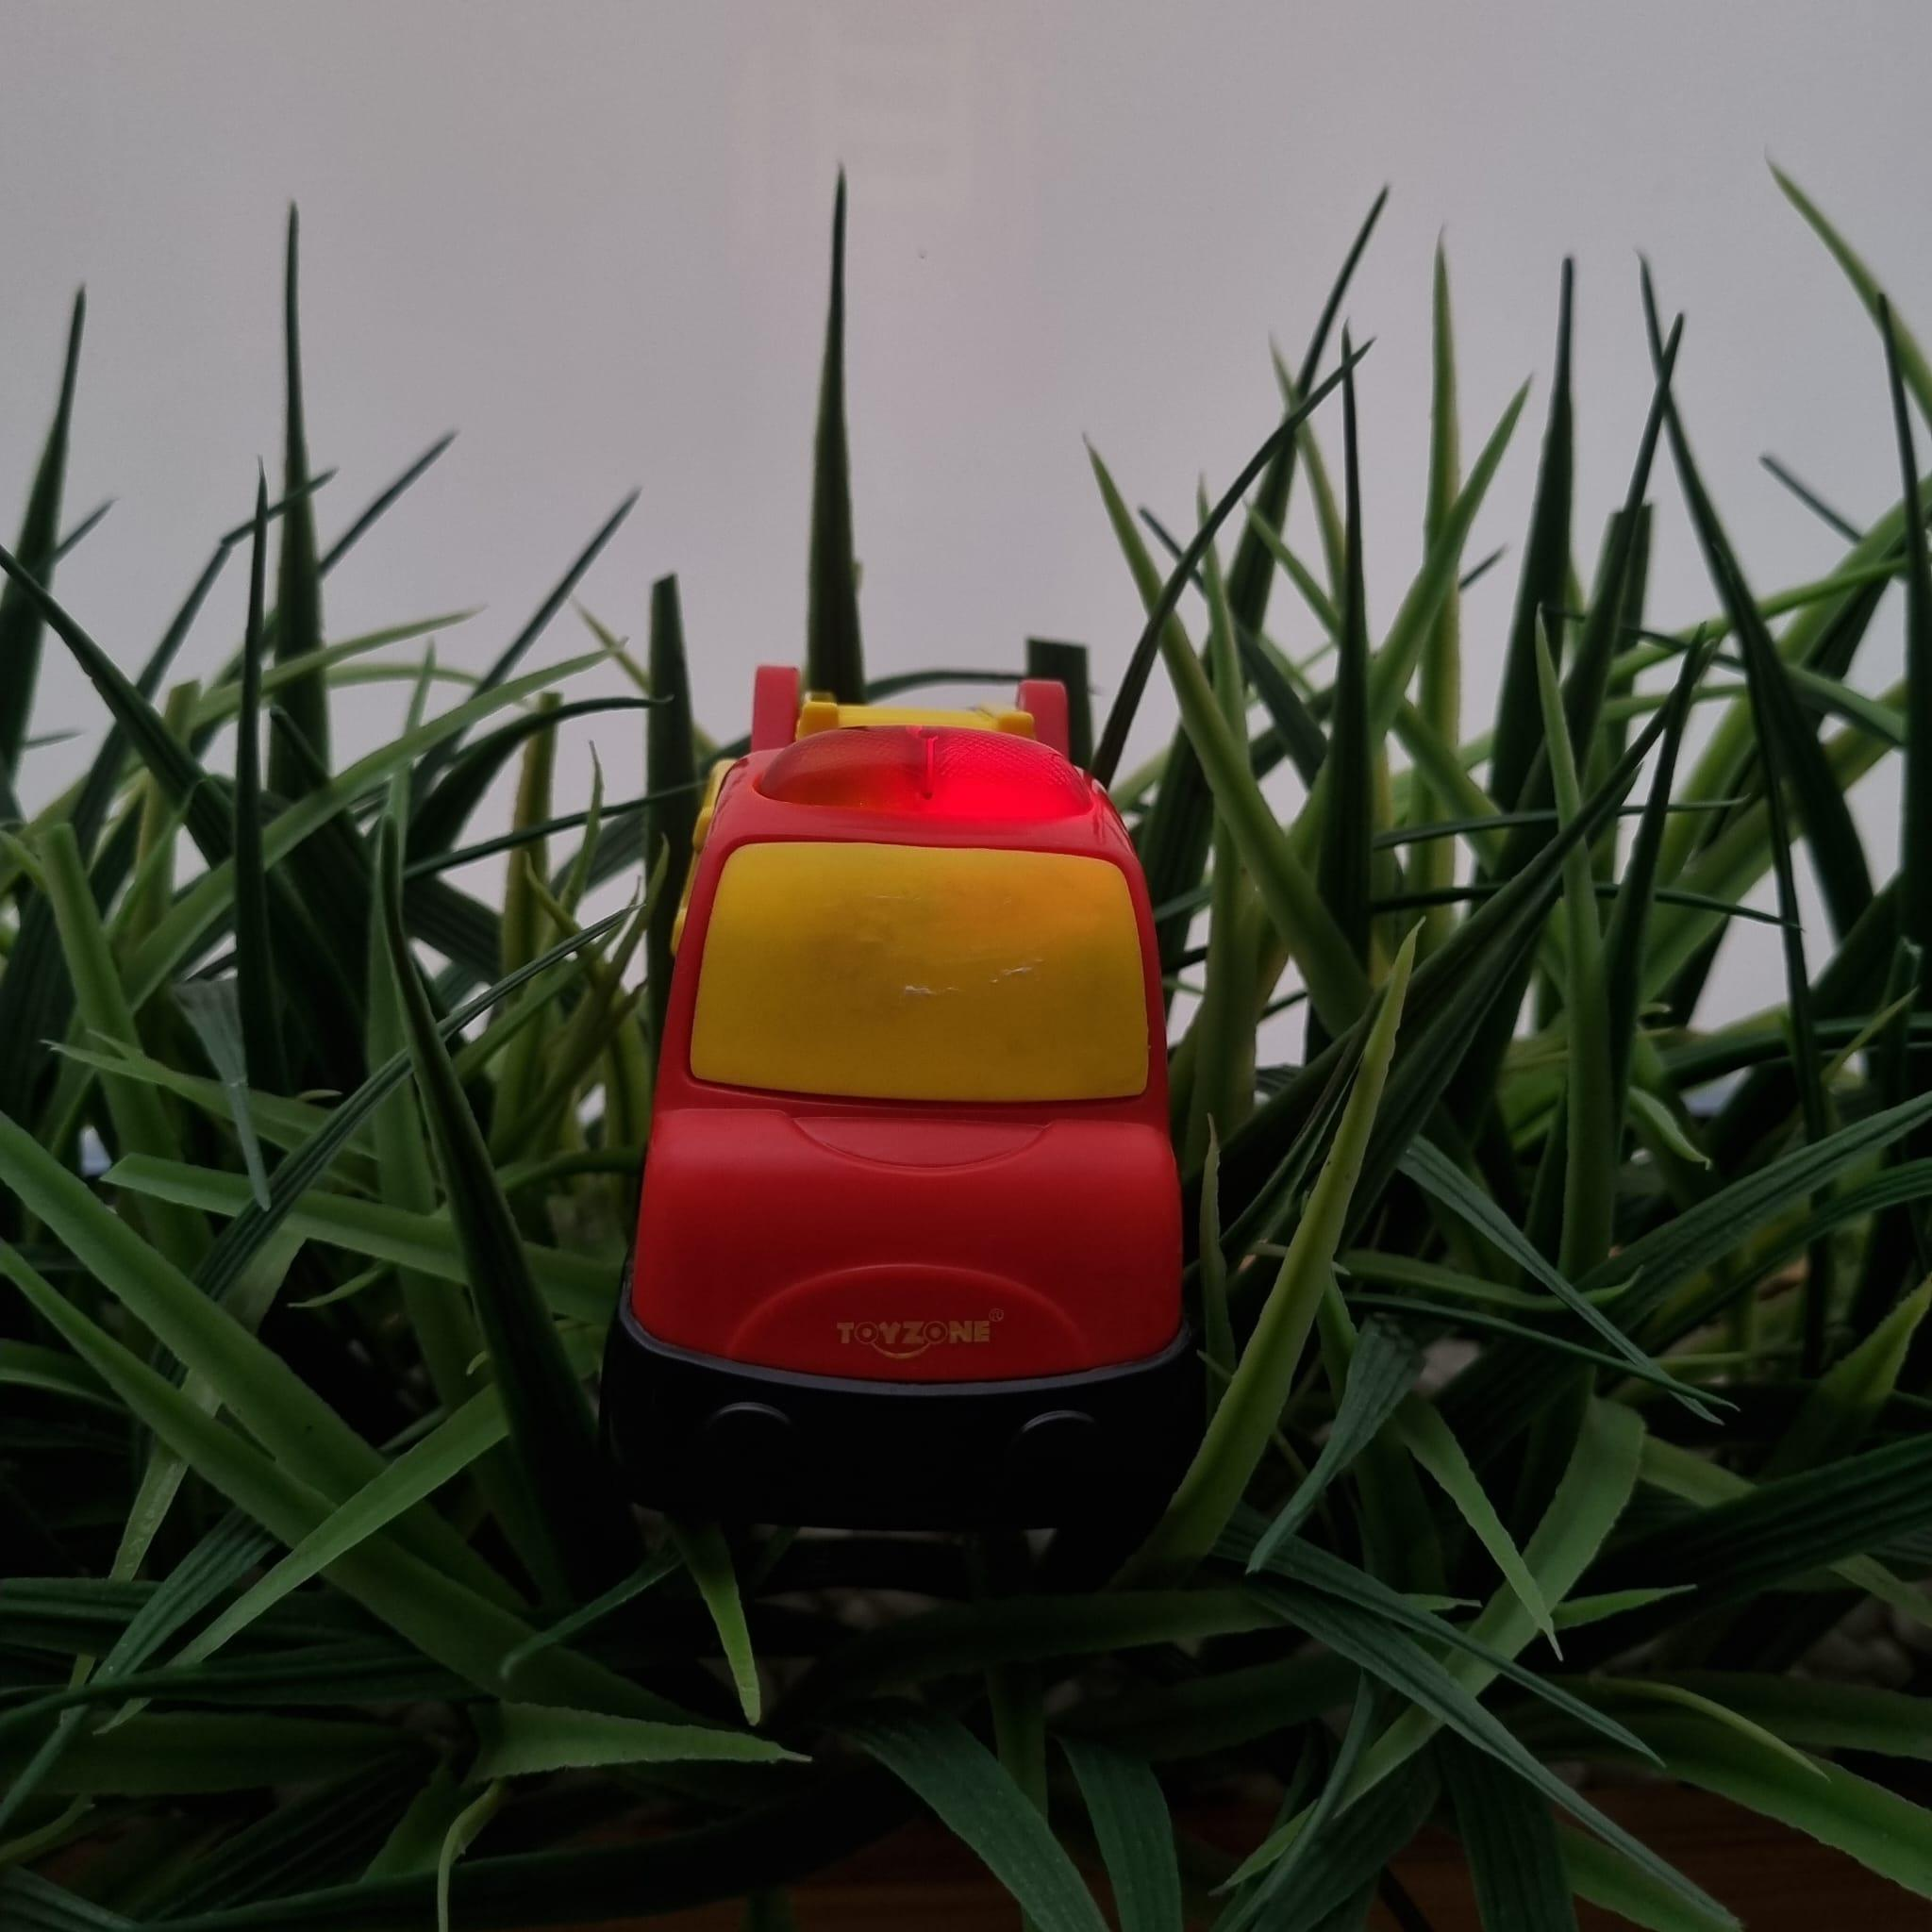firetruck_on: (577, 662, 1198, 1522)
